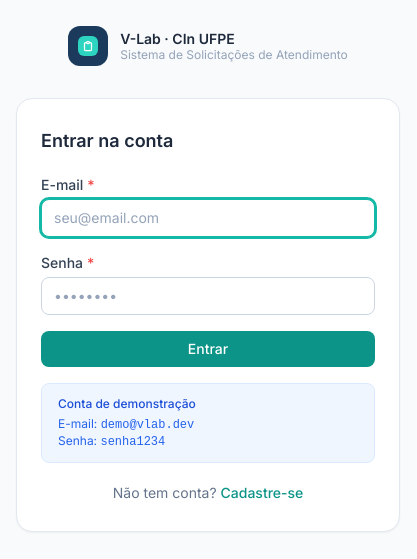
Test: Login › exibe erro quando senha está vazia
In the field with placeholder "seu@email.com": (208, 218) [41, 199, 375, 237], type "a@b.com"
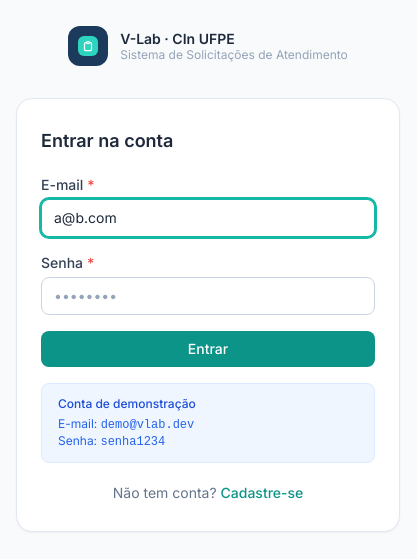
Click the button "Entrar": (208, 349) [41, 331, 375, 367]
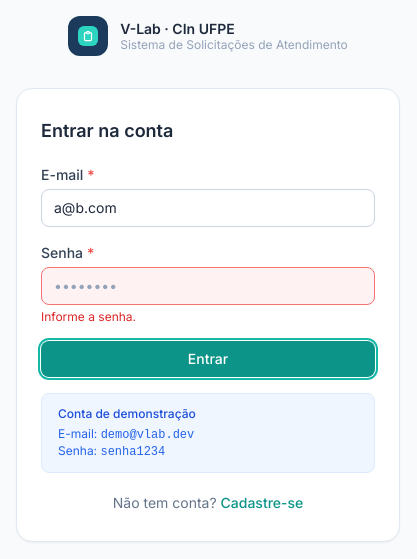
Check: the text "Informe a senha." is shown, box [41, 309, 136, 324]
